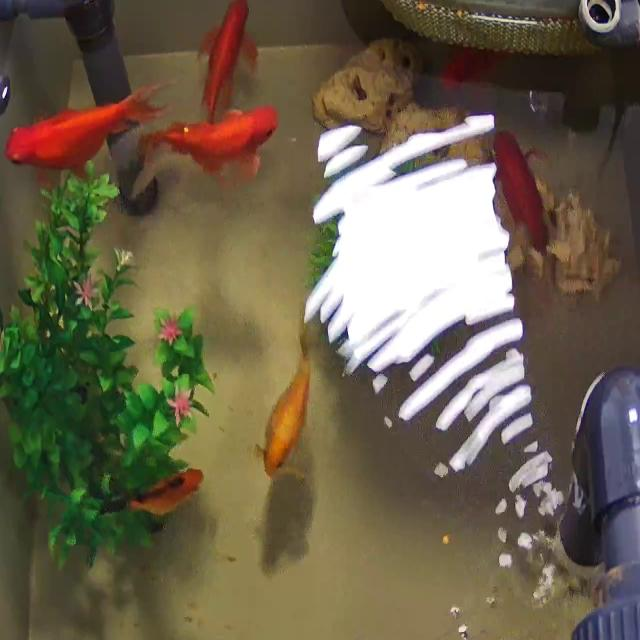fish: (2, 85, 173, 177), (134, 106, 275, 186), (490, 130, 550, 253), (259, 340, 312, 478), (200, 0, 254, 125), (421, 39, 529, 91), (116, 468, 207, 518)
